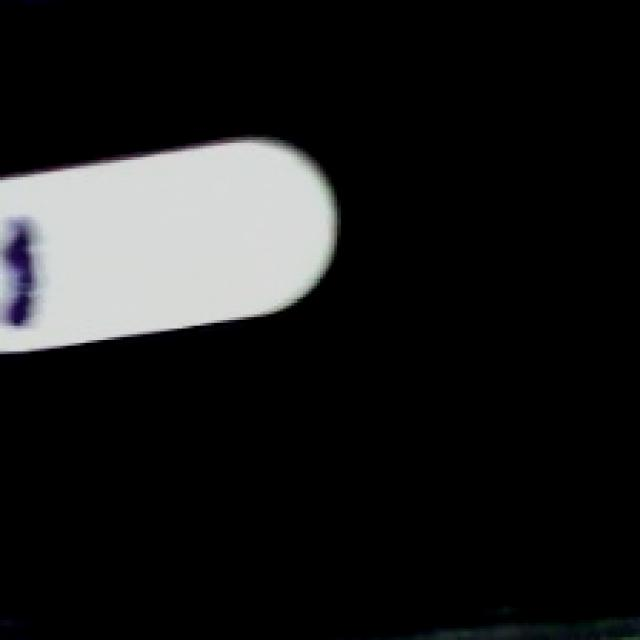defected: (0, 137, 343, 357)
